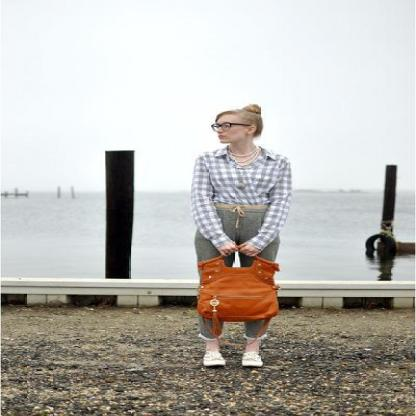bag: (189, 259, 282, 321)
pants: (195, 208, 278, 338)
shirt: (184, 148, 302, 250)
shoe: (203, 348, 267, 364)
